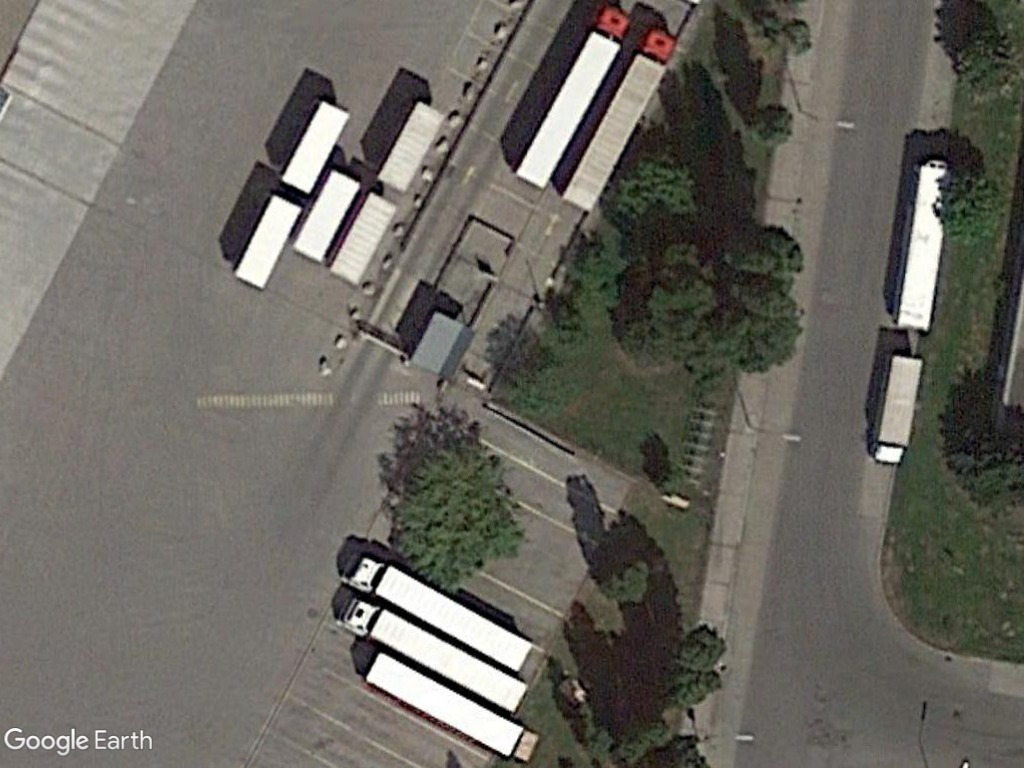longvehicle: (333, 595, 533, 713), (513, 4, 634, 197), (345, 553, 541, 672), (558, 26, 677, 213), (357, 648, 538, 760), (893, 158, 955, 334)
truck: (864, 352, 927, 467)
